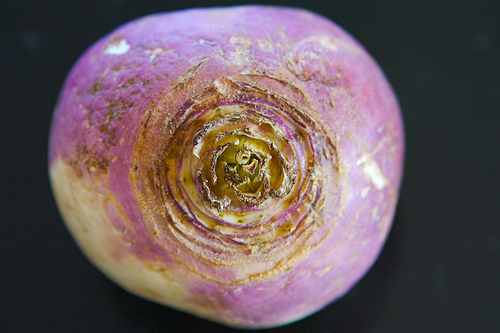turnip: (42, 2, 411, 331)
